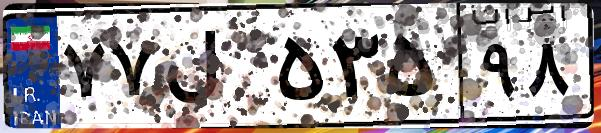3: (330, 28, 385, 110)
5: (270, 28, 330, 110), (385, 28, 445, 110)
7: (57, 26, 110, 100), (110, 28, 158, 98)
8: (525, 38, 570, 115)
9: (475, 38, 525, 113)
ل: (158, 20, 270, 120)
